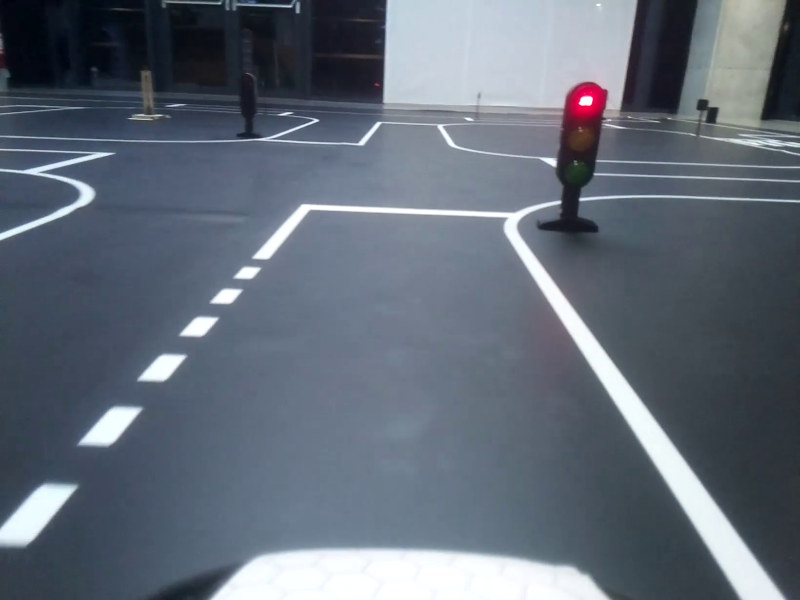traffic_red: (556, 81, 597, 192)
